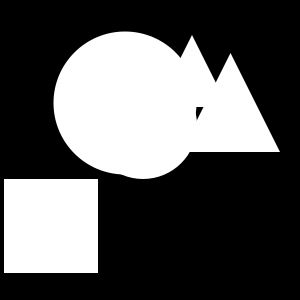circle: (4, 179, 98, 273)
rectangle: (54, 31, 196, 174), (89, 71, 197, 179)
triangle: (181, 53, 280, 152), (156, 35, 228, 107)
